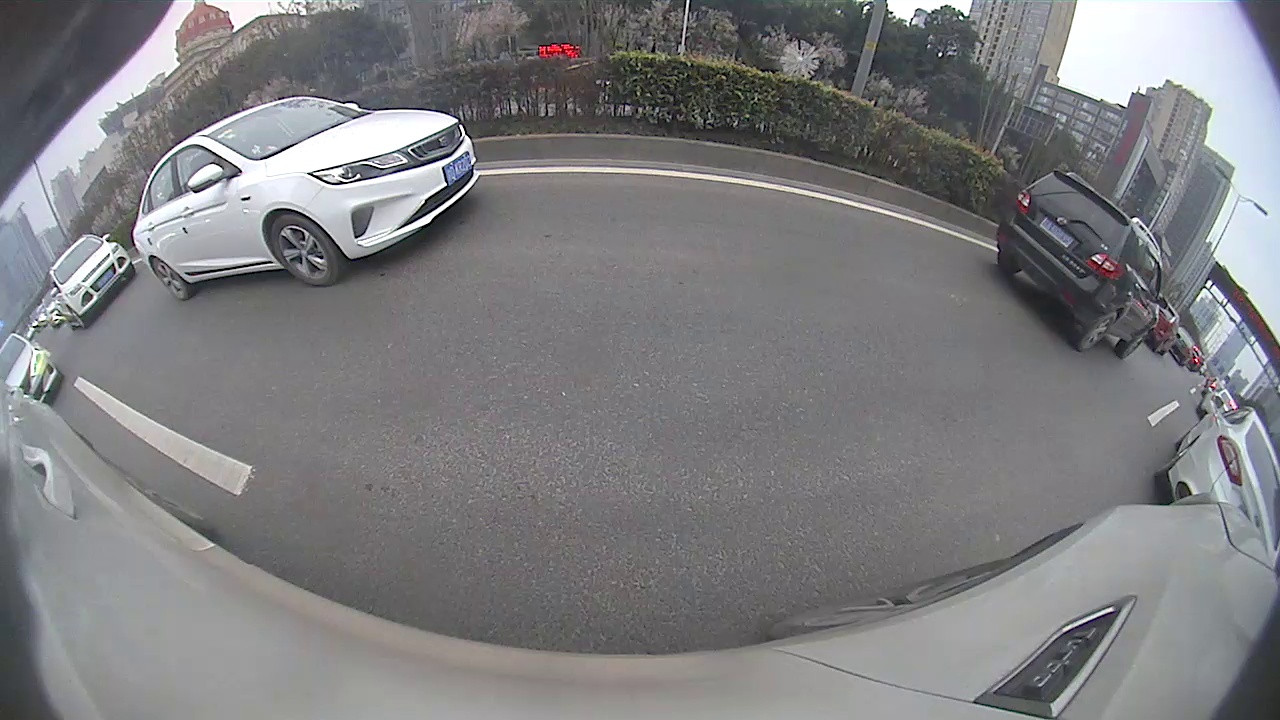car: (128, 95, 480, 302), (995, 167, 1169, 359), (1155, 393, 1275, 565), (44, 234, 137, 331), (0, 331, 64, 405)
front: (270, 212, 342, 288), (1120, 329, 1150, 360)
rear: (148, 256, 193, 301), (1073, 313, 1113, 353)
